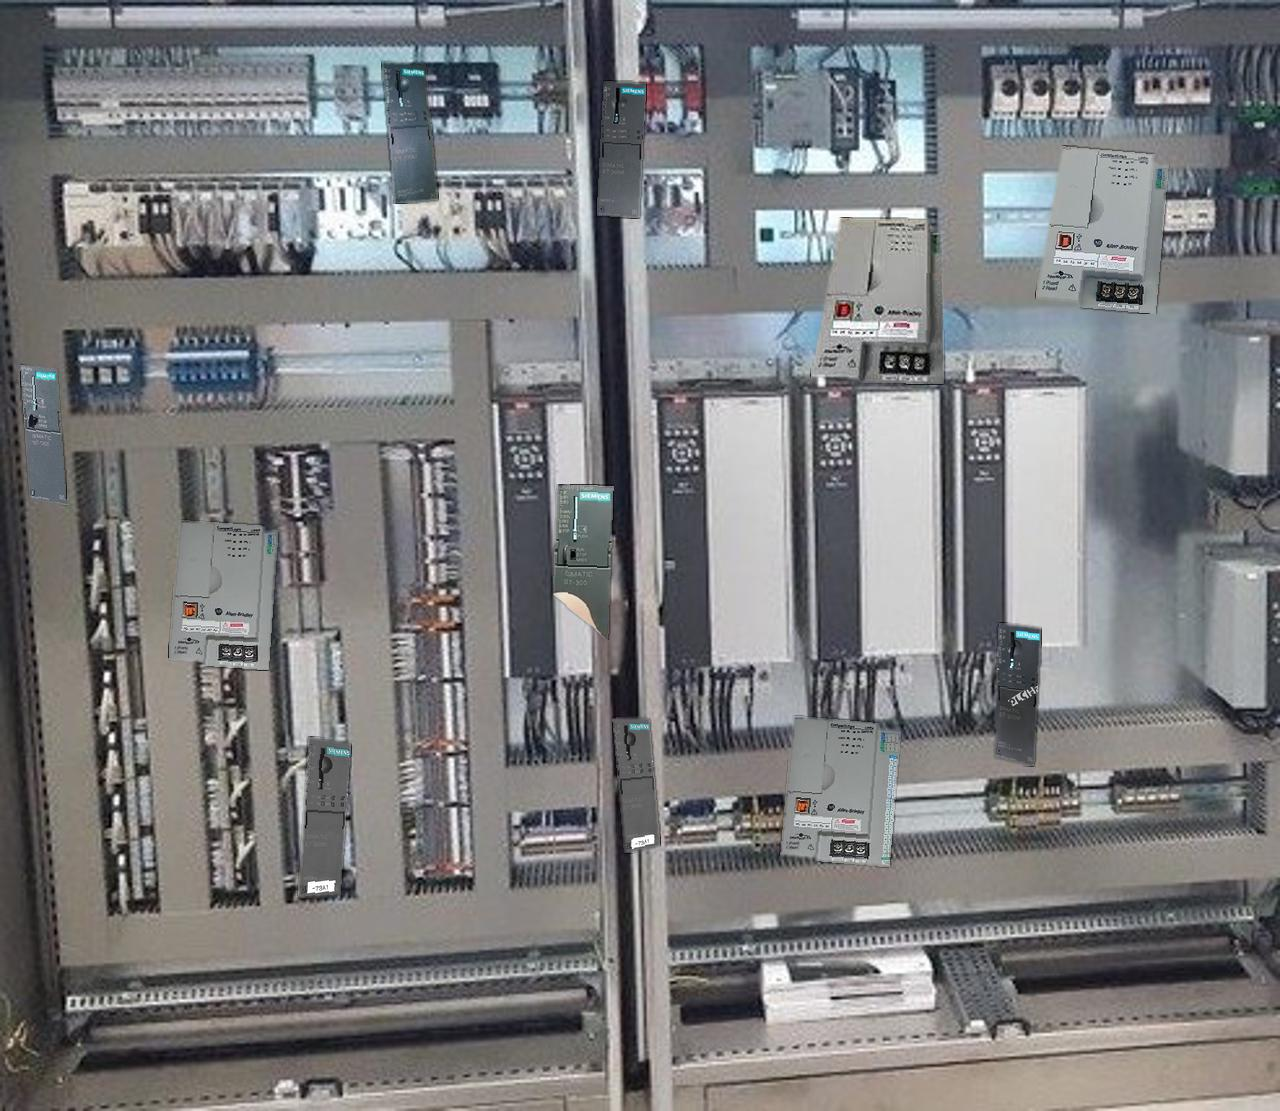AllenBradley: (811, 218, 943, 383), (1036, 146, 1167, 312), (780, 717, 899, 866), (168, 521, 276, 669)
Siemens: (553, 484, 613, 639), (20, 365, 66, 504)
